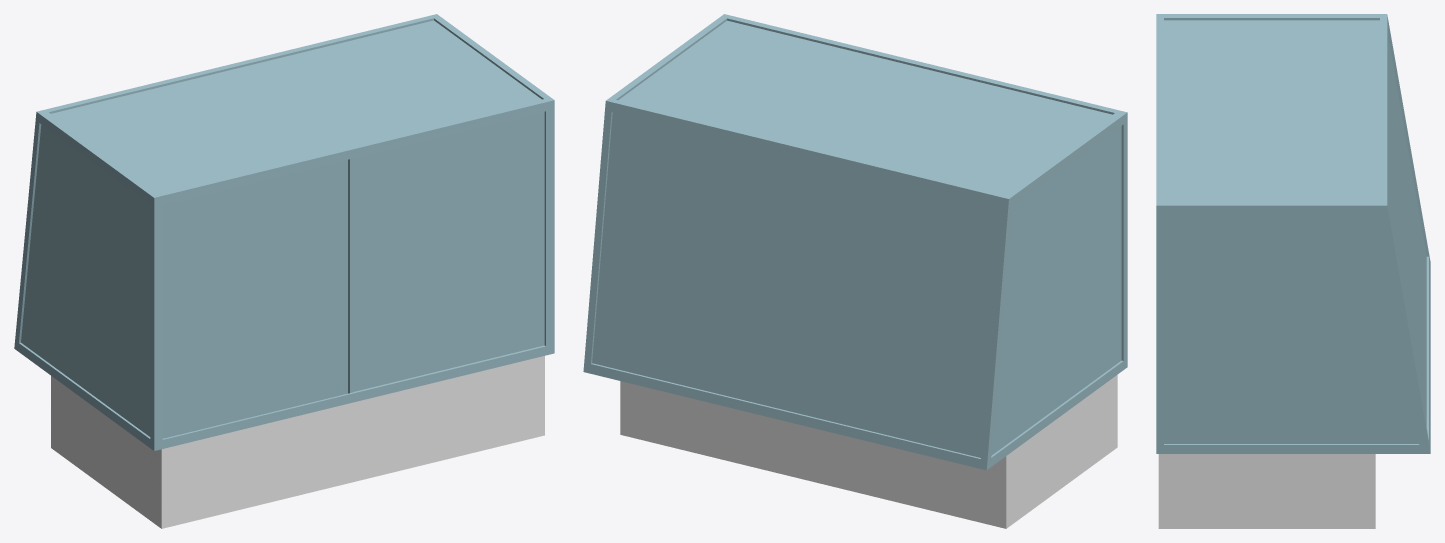
The model's file is DisplayCase.fbx.
The picture shows the model from 3 angles, left to right: view 1: azimuth 30°, elevation 25°; view 2: azimuth 150°, elevation 25°; view 3: azimuth 270°, elevation 25°; orthographic projection. The views are drawn at different scales.
Visible parts, largest first — view 1: Object_2, Object_3; view 2: Object_2, Object_3; view 3: Object_2, Object_3.
Part boxes in pixels (<box>): Object_2: <box>14,14,554,450</box>; Object_3: <box>51,356,544,528</box>; Object_2: <box>583,14,1127,470</box>; Object_3: <box>620,375,1117,528</box>; Object_2: <box>1156,14,1430,453</box>; Object_3: <box>1158,454,1375,528</box>.
Size of the model in its own units: 154 by 123 by 93.14.
